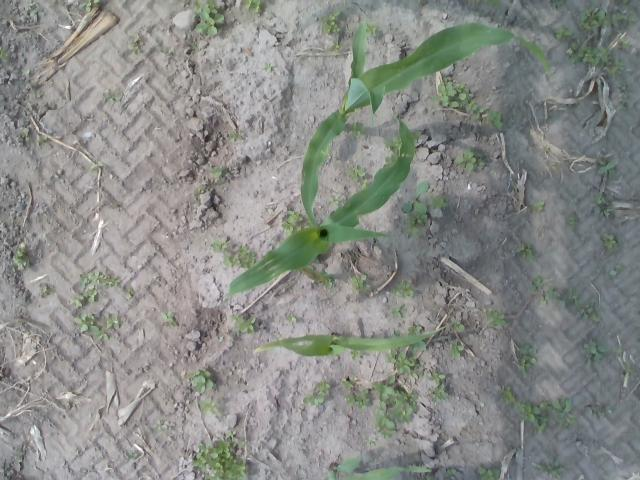Maize: (299, 19, 552, 216), (226, 118, 417, 300), (252, 326, 448, 357), (321, 456, 433, 480)
Weeds: (371, 374, 418, 440), (191, 439, 247, 480), (401, 180, 430, 238), (432, 75, 478, 111), (514, 399, 553, 435), (566, 38, 610, 66), (192, 0, 224, 37), (384, 346, 420, 378), (74, 312, 108, 341), (576, 5, 610, 34), (223, 244, 260, 270), (78, 270, 120, 292), (552, 398, 578, 429), (186, 366, 213, 394), (302, 265, 334, 288), (66, 285, 98, 307), (428, 368, 448, 403), (532, 458, 565, 479), (454, 147, 484, 170), (280, 210, 303, 238), (474, 107, 503, 129), (581, 338, 607, 362), (384, 136, 403, 166), (346, 388, 370, 410), (10, 245, 30, 271), (230, 314, 256, 334), (518, 345, 538, 371), (321, 9, 341, 33), (614, 80, 630, 110), (595, 156, 616, 177), (24, 0, 44, 22), (559, 288, 580, 308), (352, 273, 371, 295), (580, 302, 600, 322), (611, 11, 637, 26), (394, 279, 414, 298), (487, 310, 508, 328), (476, 465, 501, 480), (515, 242, 535, 260), (204, 164, 228, 178), (605, 59, 624, 76), (553, 24, 573, 40), (242, 0, 264, 14), (104, 312, 121, 330), (348, 164, 366, 181), (602, 232, 619, 250), (199, 398, 218, 414), (530, 275, 549, 291), (103, 90, 124, 104), (448, 340, 464, 358), (212, 237, 230, 252), (501, 385, 516, 403), (592, 404, 611, 418), (348, 122, 367, 136), (302, 394, 324, 406), (363, 20, 379, 36), (540, 288, 556, 304), (430, 194, 447, 209), (128, 34, 142, 52), (80, 0, 100, 12), (313, 380, 330, 394), (409, 340, 426, 354), (620, 363, 634, 380), (388, 304, 404, 318), (162, 311, 176, 327), (530, 199, 546, 213), (594, 192, 610, 206), (36, 133, 50, 148), (568, 212, 580, 229), (447, 320, 465, 331), (230, 128, 244, 142), (328, 194, 343, 206), (340, 378, 356, 389), (410, 130, 422, 144), (152, 420, 168, 430), (26, 82, 38, 95), (408, 325, 422, 336), (616, 38, 634, 46), (476, 0, 500, 6), (0, 46, 9, 62), (349, 348, 362, 359), (90, 160, 104, 170), (364, 437, 378, 447), (123, 286, 133, 299), (330, 40, 340, 52), (20, 130, 30, 142), (599, 208, 612, 217), (551, 0, 565, 8), (610, 264, 620, 275), (262, 63, 274, 72), (42, 286, 54, 295), (444, 467, 456, 476), (125, 450, 138, 458), (612, 346, 622, 356), (359, 179, 368, 190), (285, 314, 297, 322), (24, 68, 32, 77), (50, 0, 64, 5), (392, 330, 400, 338), (227, 430, 236, 437), (193, 188, 202, 194), (190, 42, 197, 49), (162, 47, 168, 54), (545, 146, 551, 152)
